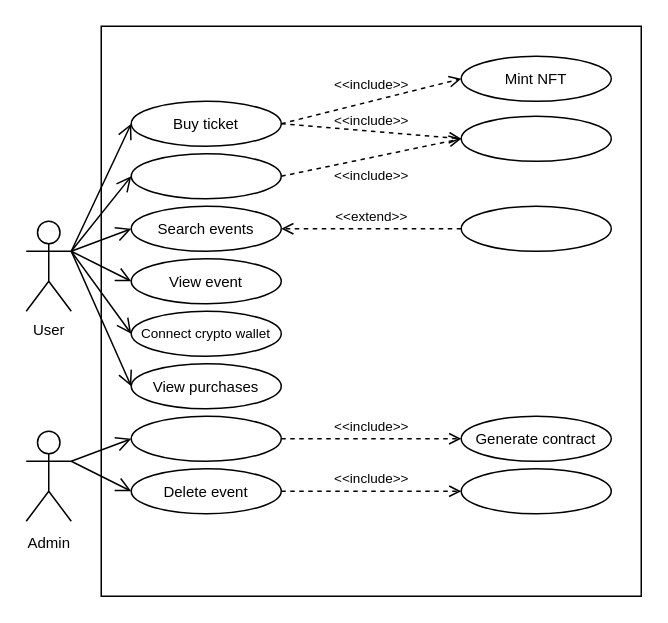
Some shapes in this 668 by 623 pixel diagram are drawn without their labels. The shapes that lost their labels are listed below. From the top down, each one's centre as x and y in pixels, then its label:
the point at 535,138: Contract transaction
the point at 205,175: Resell ticket
the point at 535,228: Filter events
the point at 205,438: Add event
the point at 535,490: Invalidate contract
